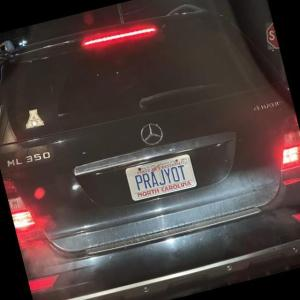Plate: (124, 153, 197, 201)
